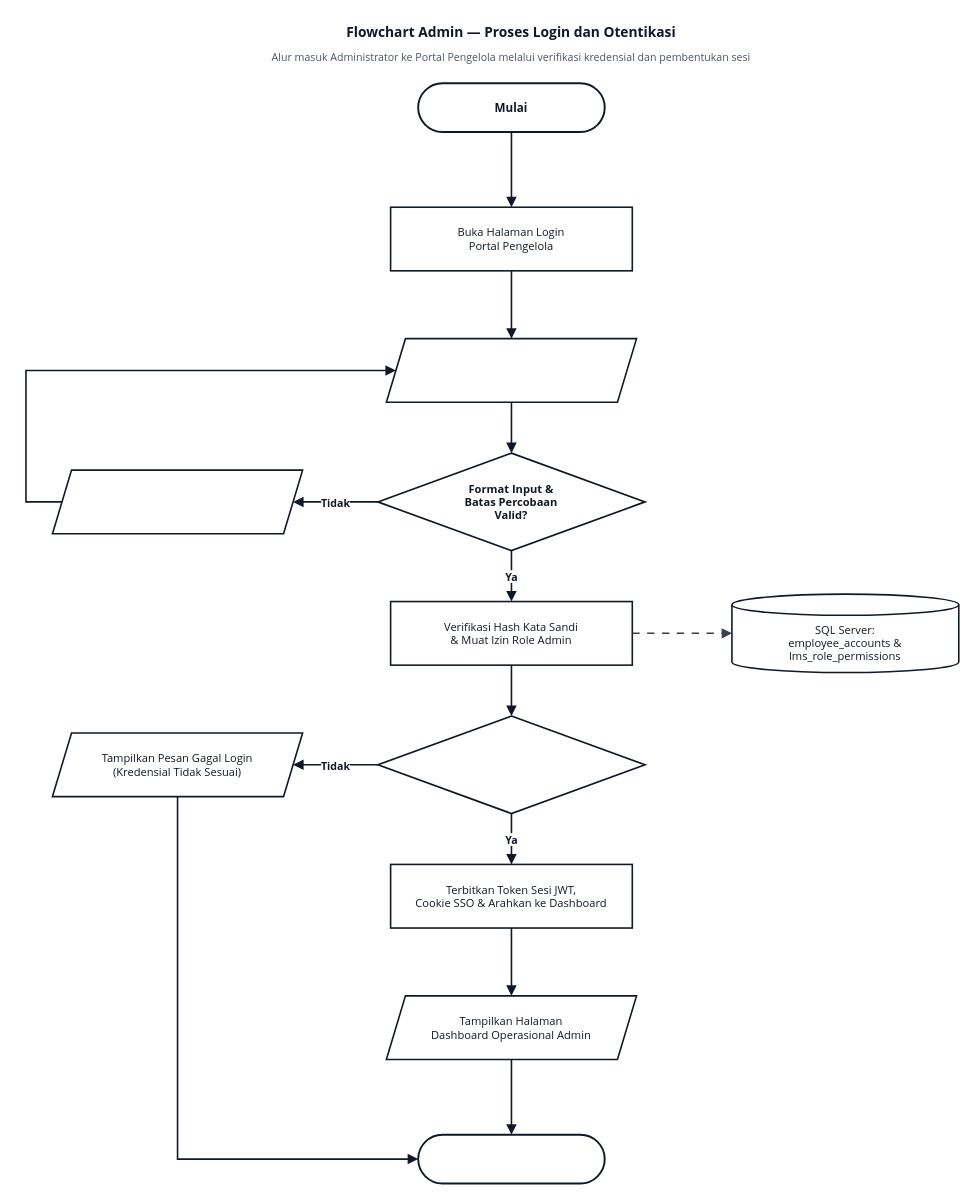
The diagram is 978 pixels wide and 1202 high, and some of its shapes have lost their labels. The shapes that lost their labels are listed below. From the top down, each one's box as (x1, y1, x2, y2) in pixels, then its label:
(385, 337, 637, 403): Masukkan NPK atau Email dan Kata Sandi
(51, 469, 303, 534): Tampilkan Pesan Peringatan Input / Rate Limit
(377, 715, 645, 814): Kredensial Valid & Status Akun Aktif?
(417, 1133, 605, 1184): Selesai
